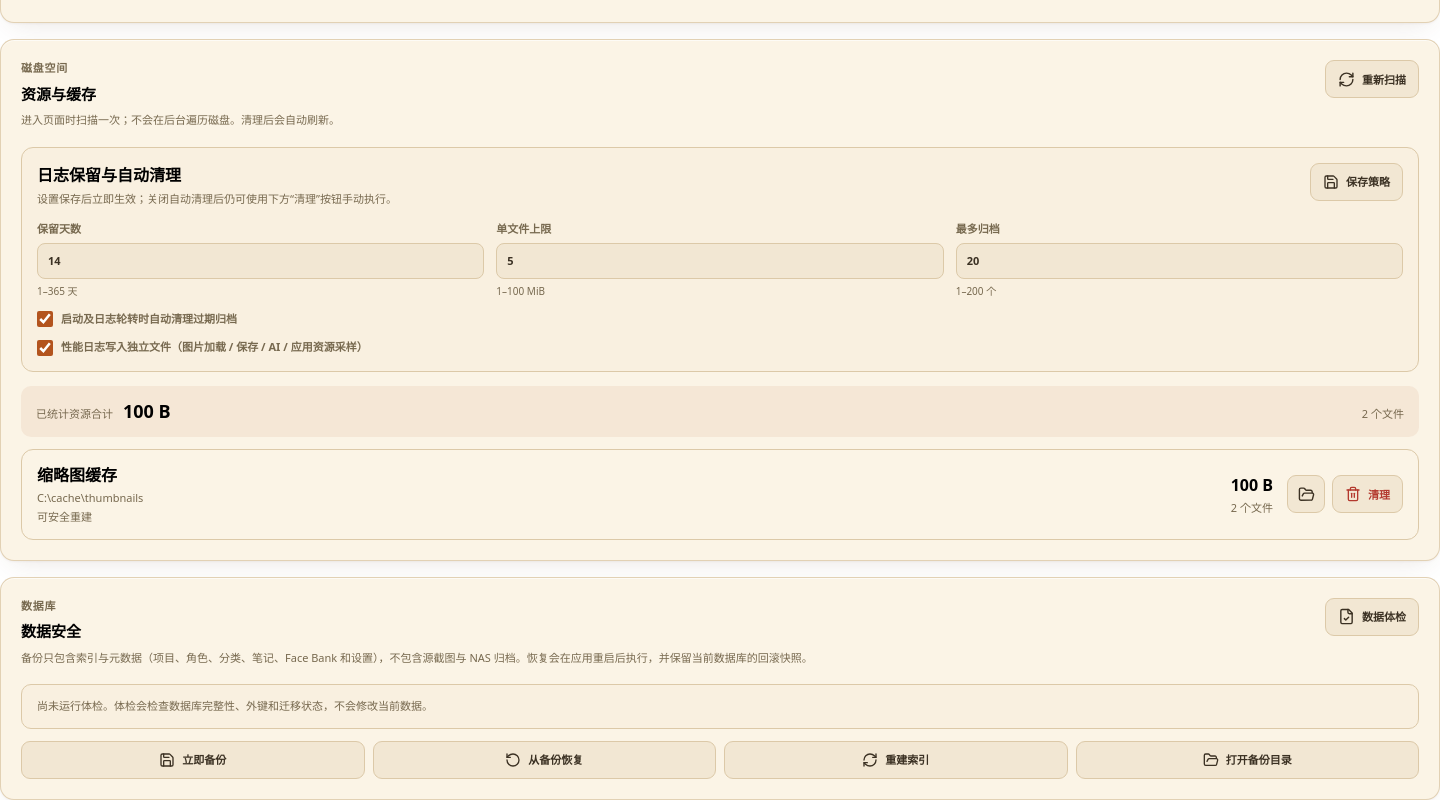
Scenario: ResourceStoragePanel database safety › runs a preflight and shows the integrity summary
(page scrolled)
Click the button with class "section-action" showing "数据体检".
click(1372, 617)  # box [1325,598,1419,636]
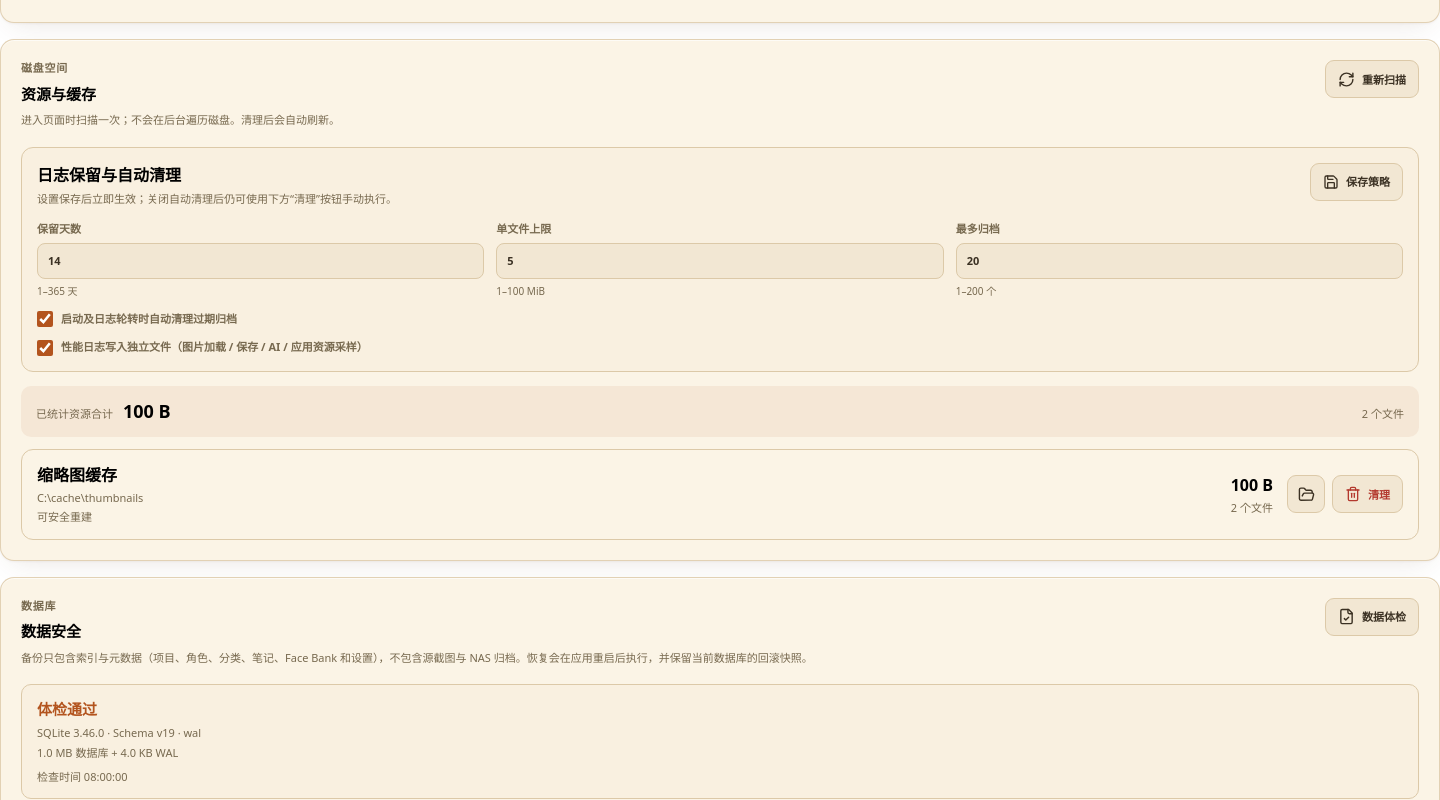
Now the text "体检通过" is shown, box [37,699,97,719]
Now the text "Schema v19" is shown, box [37,725,201,740]
Now the text "SQLite 3.46.0" is shown, box [37,725,201,740]
